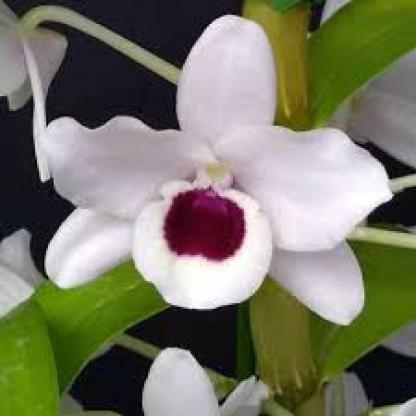ANGGREK: (51, 10, 402, 347)
